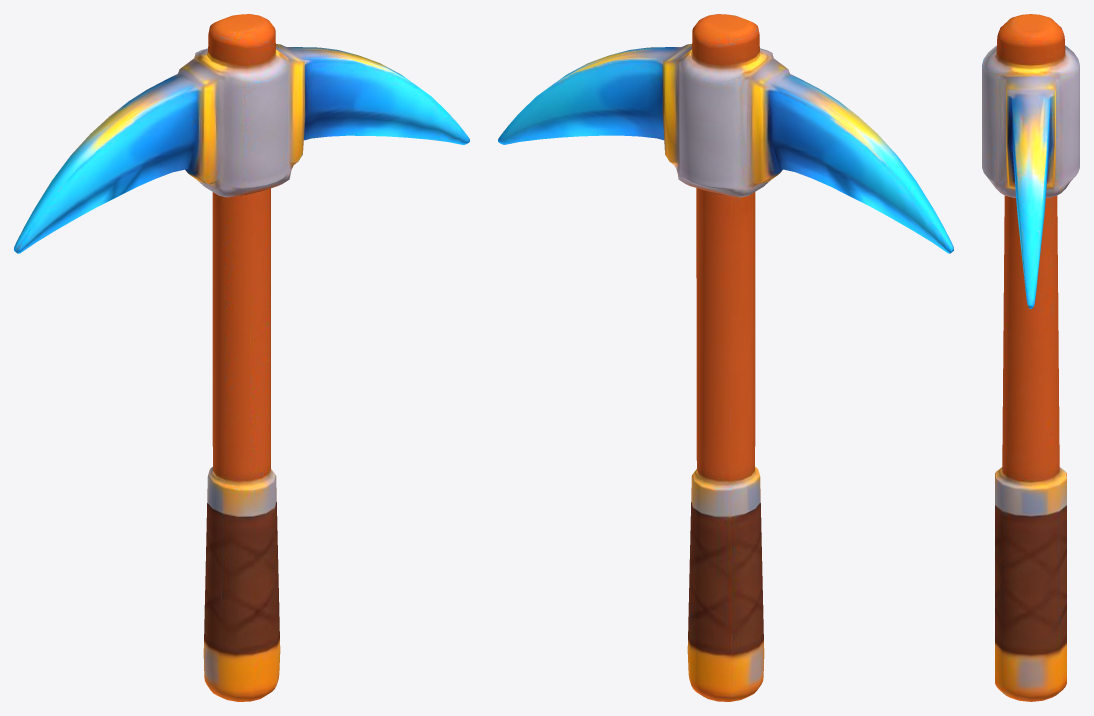
Rendered from pick-2.gltf.
The picture shows the model from 3 angles, left to right: view 1: azimuth 30°, elevation 25°; view 2: azimuth 150°, elevation 25°; view 3: azimuth 270°, elevation 25°; orthographic projection.
Visible parts, largest first — view 1: pick-2; view 2: pick-2; view 3: pick-2.
Boxes of the visible parts, <box> form: pick-2: <box>14,14,469,701</box>; pick-2: <box>498,14,953,701</box>; pick-2: <box>982,14,1079,701</box>.
Size of the model in its own units: 0.7065 by 0.9995 by 0.1323.
1 material, 1 textured.
